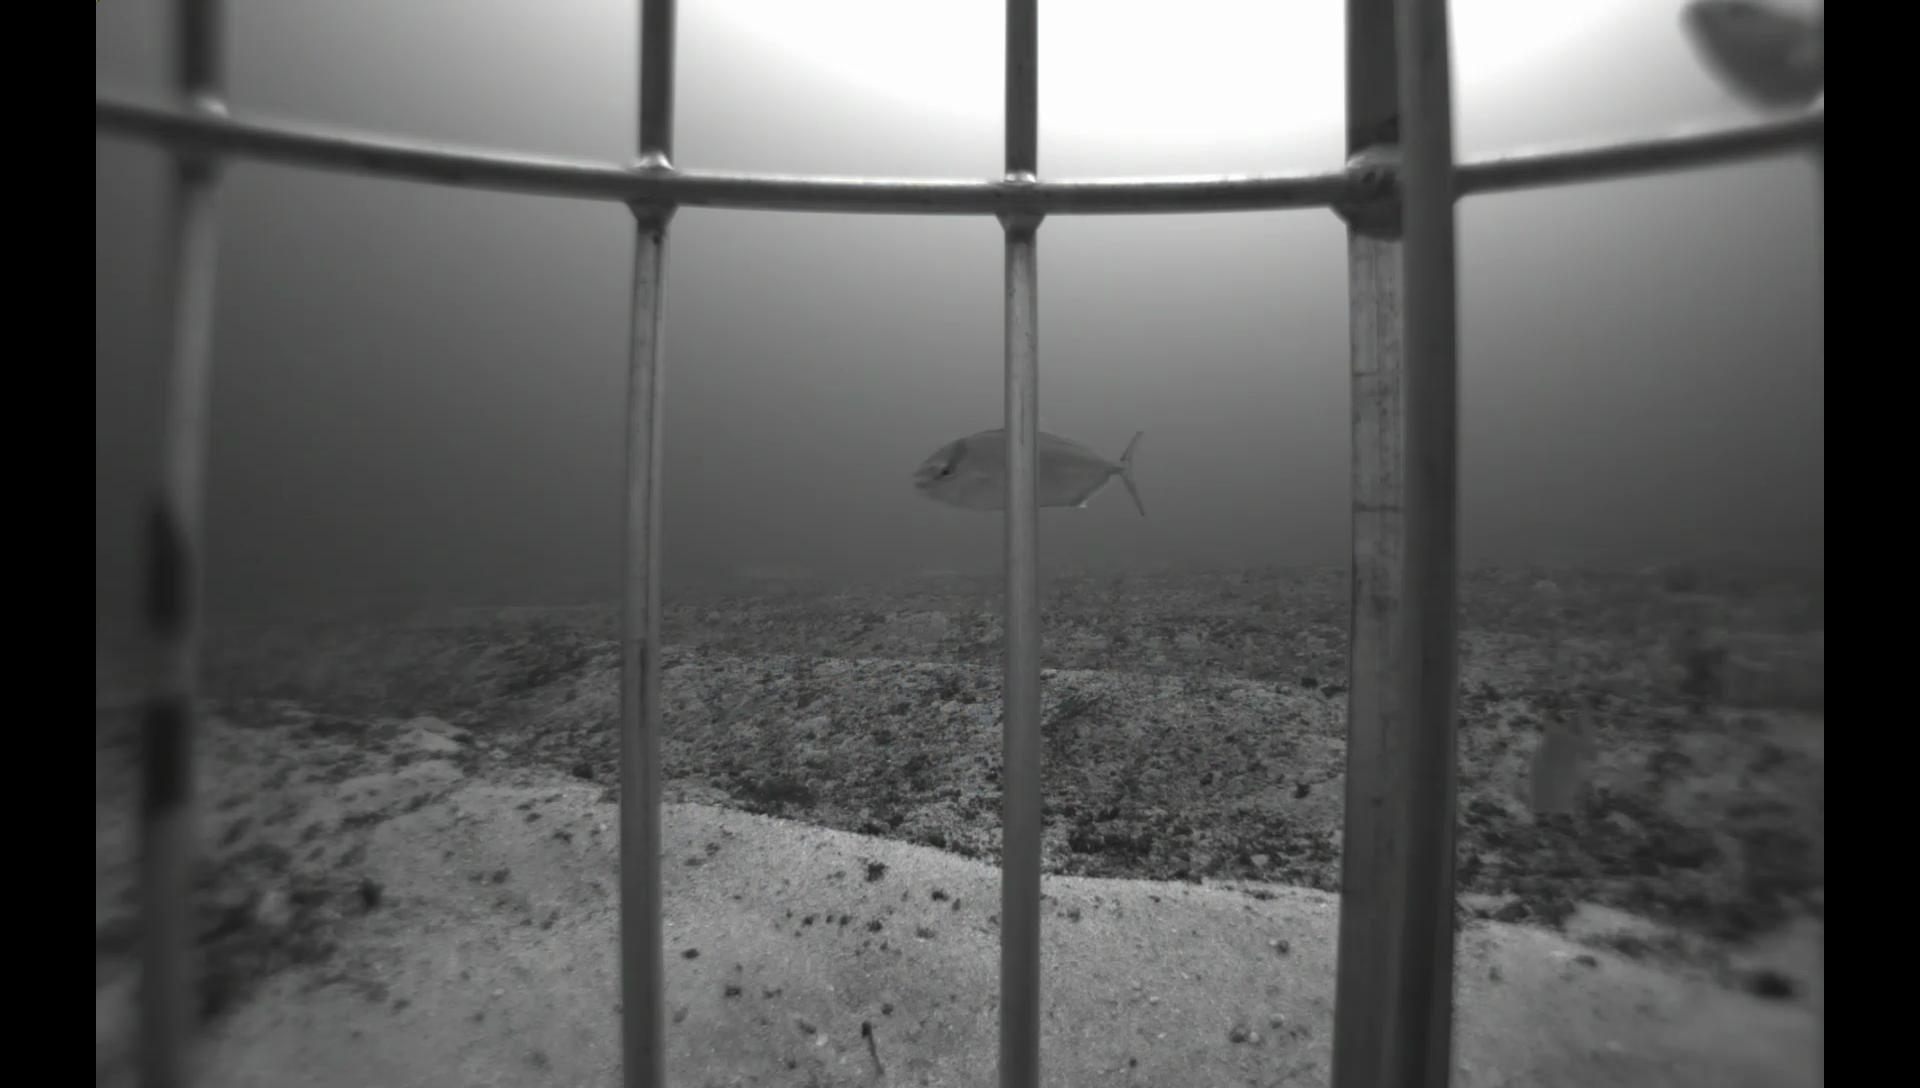CALAMUSPRORIDENS-170210605: (1509, 688, 1610, 837)
RHOMBOPLITESAURORUBENS-170152001: (1673, 1, 1824, 179)
SERIOLAFASCIATA-170113103: (901, 415, 1154, 530)
